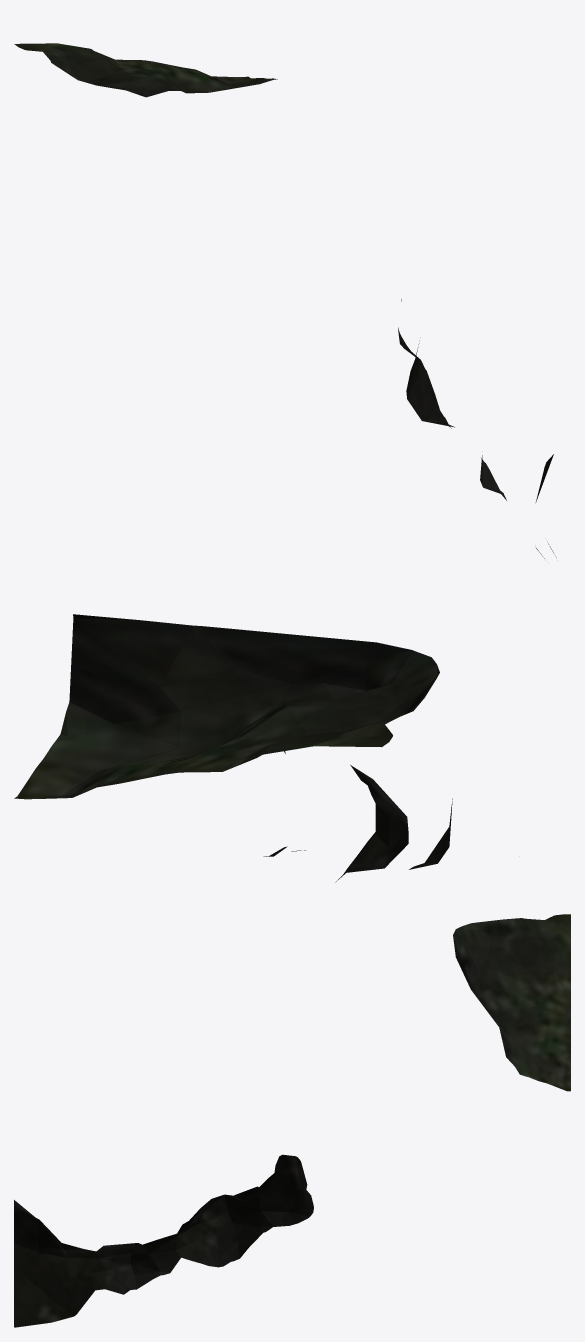
3 renders of one model, top to bottom at view 1: azimuth 30°, elevation 25°; view 2: azimuth 150°, elevation 25°; view 3: azimuth 270°, elevation 25°, orthographic. The views are drawn at different scales.
Size of the model in its own units: 0.7047 by 1.04 by 1.67.
Materials: 1 (1 with a texture image).
